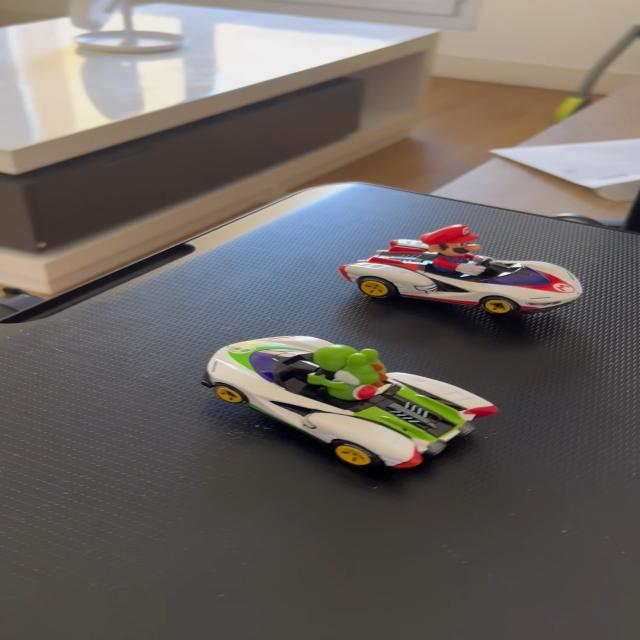mario: (339, 223, 597, 318)
yoshi: (192, 332, 522, 484)
